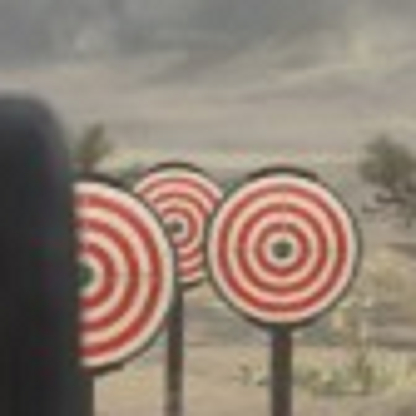target: (201, 164, 362, 329), (82, 172, 180, 369)
